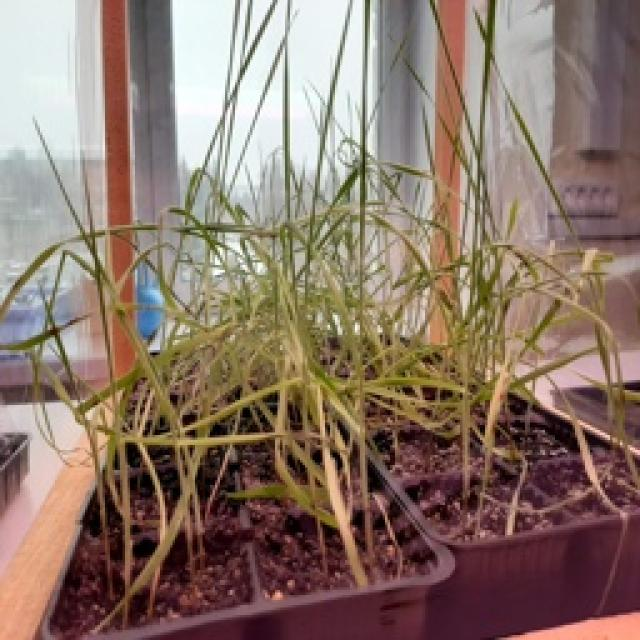Brown Rust: (35, 332, 637, 638)
Healthy Wheat: (0, 0, 638, 638)
